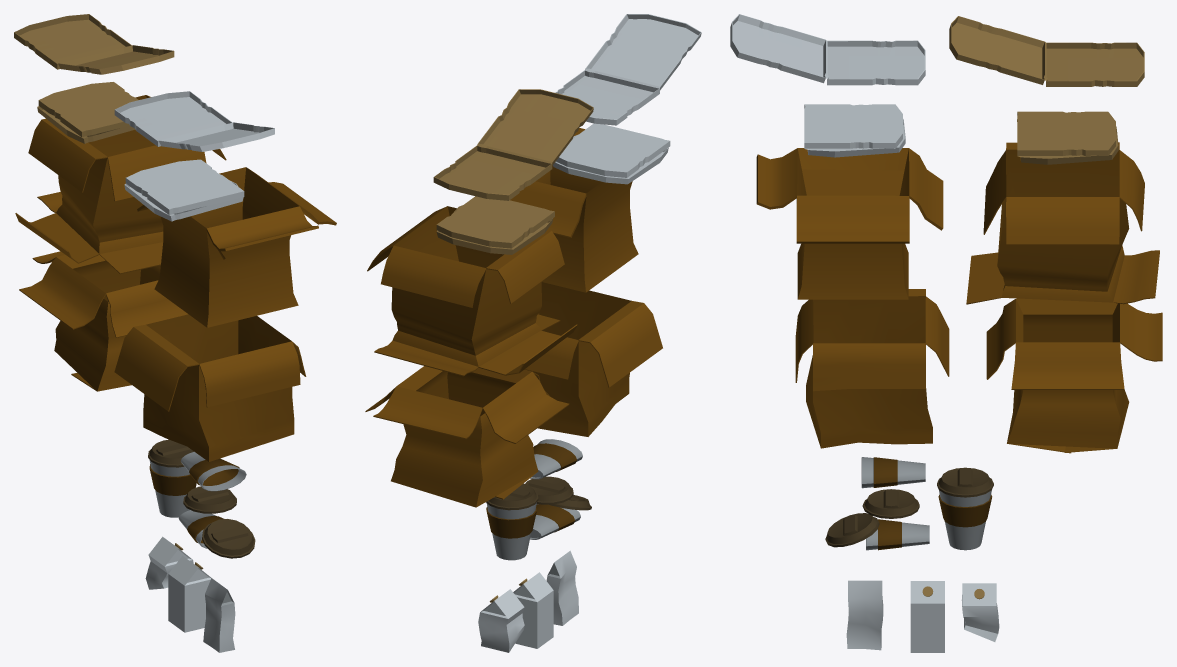
Rendered from Carton_FBX.fbx.
3 views of the same model, side by side, from view 1: azimuth 30°, elevation 25°; view 2: azimuth 150°, elevation 25°; view 3: azimuth 270°, elevation 25° (orthographic). The views are drawn at different scales.
Visible parts, largest first — view 1: Caja_03, Caja_01, Caja_02, Caja_04, CajaPizza_02, CajaPizza_01, CajaPizza_03, CajaPizza_04, Vaso_Carton_01.001, Tetra_02, Vaso_Carton_03, Tetra_01 (+3 smaller); view 2: Caja_02, Caja_04, Caja_03, CajaPizza_02, Caja_01, CajaPizza_01, CajaPizza_04, CajaPizza_03, Vaso_Carton_01.001, Tetra_02, Tetra_03, Tetra_01 (+3 smaller); view 3: Caja_02, Caja_01, Caja_04, Caja_03, CajaPizza_01, CajaPizza_02, CajaPizza_04, CajaPizza_03, Vaso_Carton_01.001, Vaso_Carton_03, Tetra_02, Tetra_01 (+3 smaller).
Boxes of the visible parts, box(x1,y1,x2,y2) form: Caja_03: box(114, 314, 306, 461); Caja_01: box(137, 167, 336, 327); Caja_02: box(15, 95, 226, 274); Caja_04: box(19, 251, 187, 391); CajaPizza_02: box(14, 14, 174, 74); CajaPizza_01: box(114, 91, 274, 151); CajaPizza_03: box(124, 159, 244, 221); CajaPizza_04: box(37, 82, 138, 143); Vaso_Carton_01.001: box(148, 439, 196, 517); Tetra_02: box(168, 556, 211, 632); Vaso_Carton_03: box(178, 510, 255, 558); Tetra_01: box(203, 578, 235, 652); Caja_02: box(367, 206, 577, 376); Caja_04: box(365, 366, 569, 507); Caja_03: box(524, 282, 662, 436); CajaPizza_02: box(433, 89, 593, 200); Caja_01: box(510, 128, 638, 292); CajaPizza_01: box(555, 14, 701, 125); CajaPizza_04: box(436, 196, 554, 254); CajaPizza_03: box(553, 123, 670, 184); Vaso_Carton_01.001: box(486, 483, 538, 560); Tetra_02: box(513, 572, 553, 648); Tetra_03: box(478, 589, 524, 652); Tetra_01: box(546, 550, 578, 625); Caja_02: box(966, 142, 1159, 304); Caja_01: box(756, 148, 943, 299); Caja_04: box(986, 298, 1162, 453); Caja_03: box(795, 289, 949, 448); CajaPizza_01: box(730, 14, 925, 85); CajaPizza_02: box(949, 16, 1144, 86); CajaPizza_04: box(1017, 111, 1118, 164); CajaPizza_03: box(804, 104, 905, 157); Vaso_Carton_01.001: box(937, 467, 993, 550); Vaso_Carton_03: box(825, 513, 929, 550); Tetra_02: box(910, 581, 944, 652); Tetra_01: box(846, 580, 883, 650).
Bounding box in the file's own units: 1.43 × 4.61 × 3.04.
